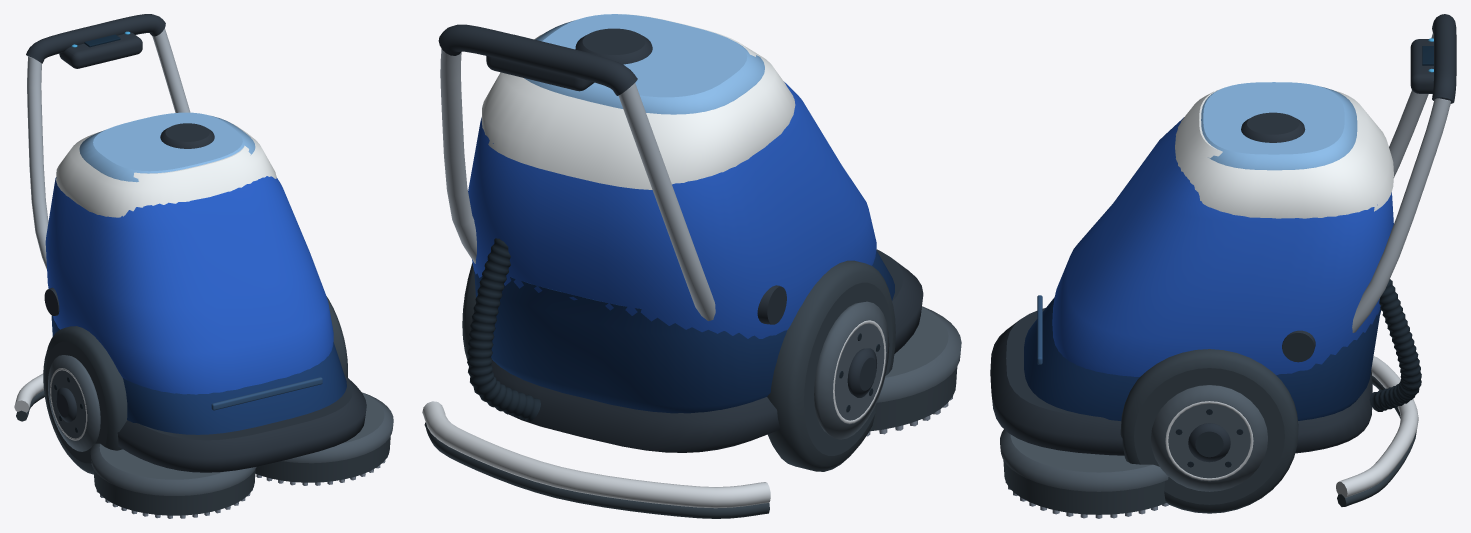
The model's file is scrubber.glb.
3 views of the same model, side by side, from view 1: azimuth 30°, elevation 25°; view 2: azimuth 150°, elevation 25°; view 3: azimuth 270°, elevation 25° (orthographic). The views are drawn at different scales.
Visible parts, largest first — view 1: Assembly • Cobalt, Assembly • Graphite, Assembly • Soft rubber, Assembly • Slate, Assembly • Deep blue, Assembly • Porcelain, Assembly • Ice blue, Assembly • Steel, Assembly • Nickel, Assembly • Dark twill, Assembly • Fibre; view 2: Assembly • Cobalt, Assembly • Deep blue, Assembly • Graphite, Assembly • Porcelain, Assembly • Soft rubber, Assembly • Ice blue, Assembly • Slate, Assembly • Steel, Assembly • Nickel, Assembly • Carbon; view 3: Assembly • Cobalt, Assembly • Soft rubber, Assembly • Graphite, Assembly • Slate, Assembly • Porcelain, Assembly • Deep blue, Assembly • Ice blue, Assembly • Steel, Assembly • Nickel, Assembly • Carbon.
Boxes of the visible parts, <box> form: Assembly • Cobalt: <box>45,176,333,394</box>; Assembly • Graphite: <box>26,14,366,472</box>; Assembly • Soft rubber: <box>16,296,390,515</box>; Assembly • Slate: <box>48,355,393,495</box>; Assembly • Deep blue: <box>51,315,346,434</box>; Assembly • Porcelain: <box>56,122,276,217</box>; Assembly • Ice blue: <box>79,112,255,182</box>; Assembly • Steel: <box>27,28,190,269</box>; Assembly • Nickel: <box>14,368,87,440</box>; Assembly • Dark twill: <box>211,377,322,410</box>; Assembly • Fibre: <box>96,456,387,518</box>; Assembly • Cobalt: <box>468,82,876,338</box>; Assembly • Deep blue: <box>474,250,894,413</box>; Assembly • Graphite: <box>438,24,923,452</box>; Assembly • Porcelain: <box>481,14,795,189</box>; Assembly • Soft rubber: <box>424,260,957,518</box>; Assembly • Ice blue: <box>524,14,764,114</box>; Assembly • Slate: <box>814,301,961,439</box>; Assembly • Steel: <box>440,49,715,320</box>; Assembly • Nickel: <box>422,320,886,508</box>; Assembly • Carbon: <box>467,238,880,421</box>; Assembly • Cobalt: <box>1052,117,1393,376</box>; Assembly • Soft rubber: <box>1003,349,1416,514</box>; Assembly • Graphite: <box>990,14,1456,462</box>; Assembly • Slate: <box>1000,385,1267,491</box>; Assembly • Porcelain: <box>1175,88,1393,218</box>; Assembly • Deep blue: <box>1024,297,1381,420</box>; Assembly • Ice blue: <box>1201,82,1357,170</box>; Assembly • Steel: <box>1352,33,1450,332</box>; Assembly • Nickel: <box>1165,356,1418,497</box>; Assembly • Carbon: <box>1175,279,1421,467</box>.
Bounding box in the file's own units: 0.848 × 0.9891 × 1.03.
